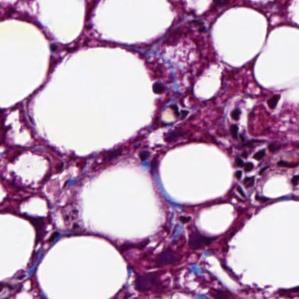inflammation: (232, 146, 272, 204), (133, 266, 167, 296), (150, 241, 185, 270), (226, 101, 244, 142), (266, 87, 284, 125), (150, 79, 168, 98)
